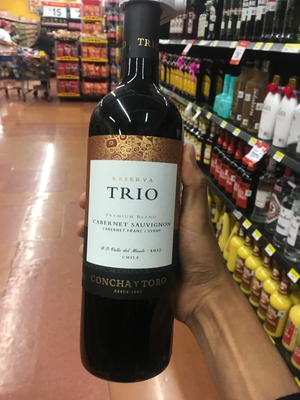trio cabernet sauvignon: (77, 20, 194, 384)
